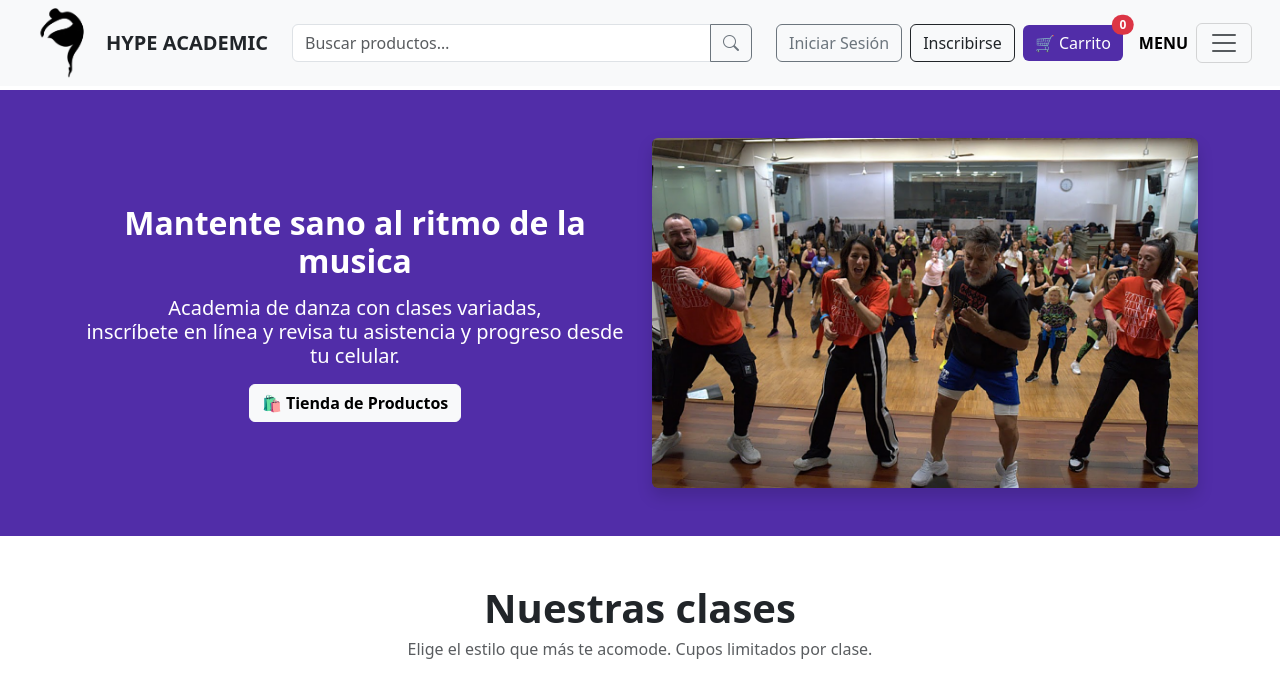
Test: App (búsqueda desde el navbar) › buscar en el navbar abre la tienda con el resultado filtrado
Type "malla" into the search field labelled "Buscar productos" at (502, 43), box [292,24,711,62]
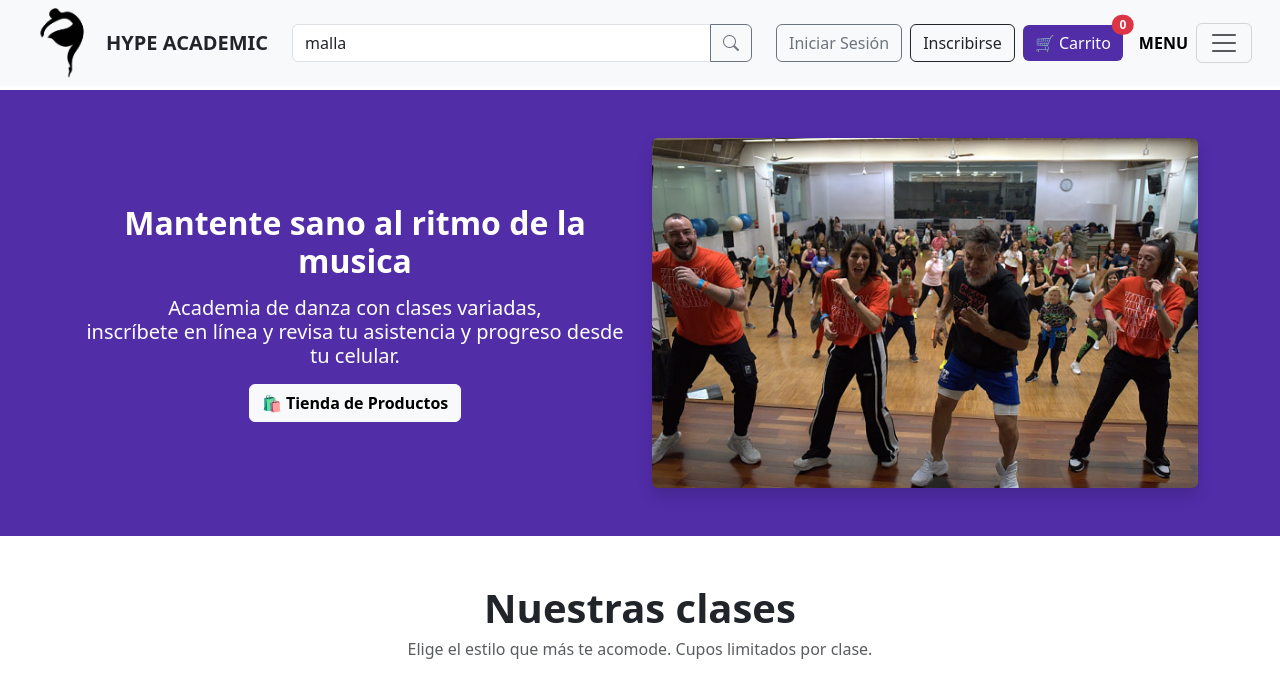
Click the button named "Buscar" at (731, 43), box [710,24,752,62]
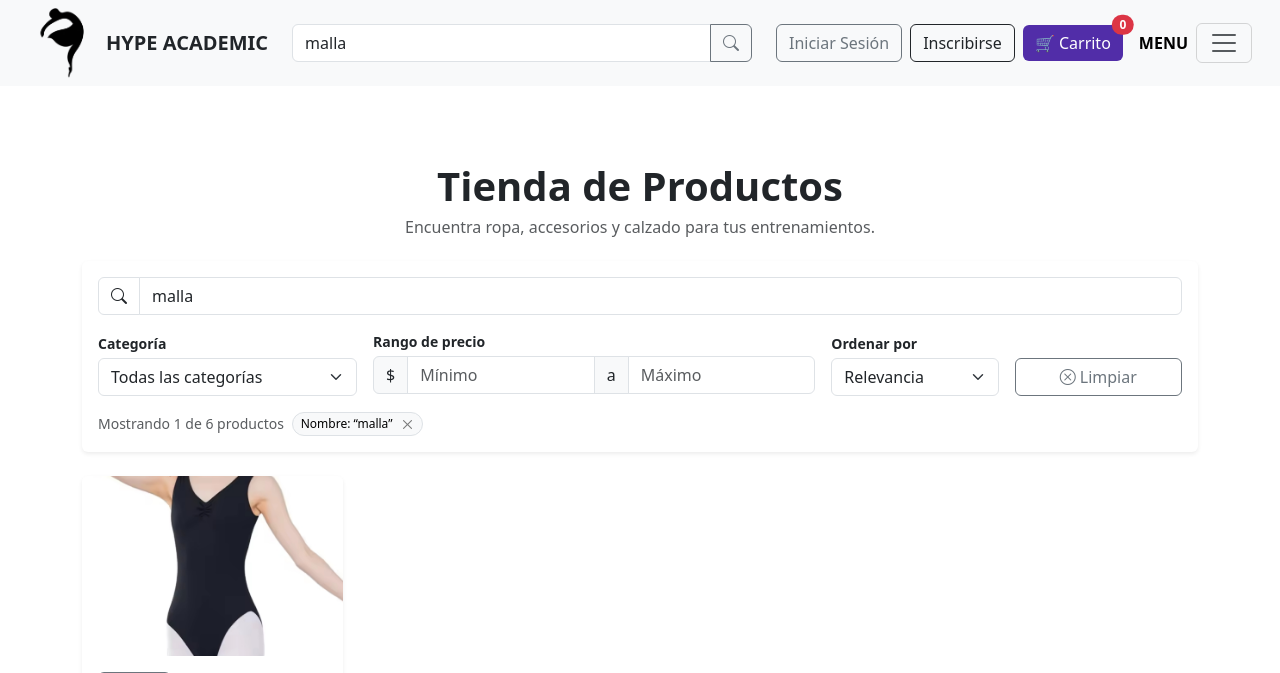
Expected: the heading "Tienda de Productos" is shown, [437,158,843,213]
Result: the search field named "Buscar por nombre" holds "malla" at [139,277,1182,315]
